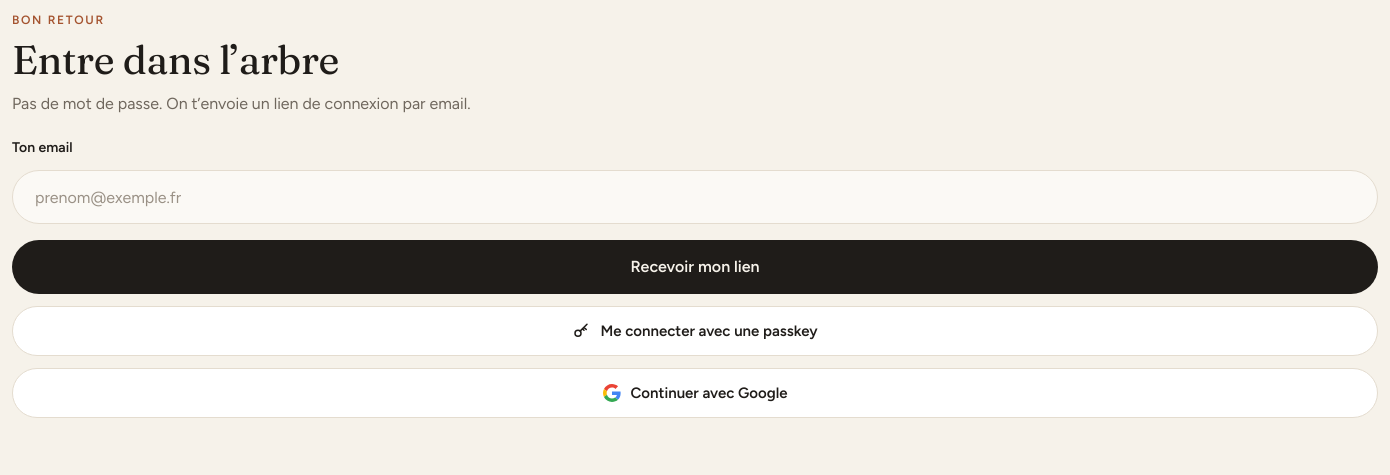
LoginForm › dit qu’il faut réessayer si le départ vers Google échoue
The width and height of the screenshot is (1390, 475).
What coordinates should you click on to do the following:
click the button "Continuer avec Google"
I would click on:
 (695, 393)
Its box is [12,368,1378,418].
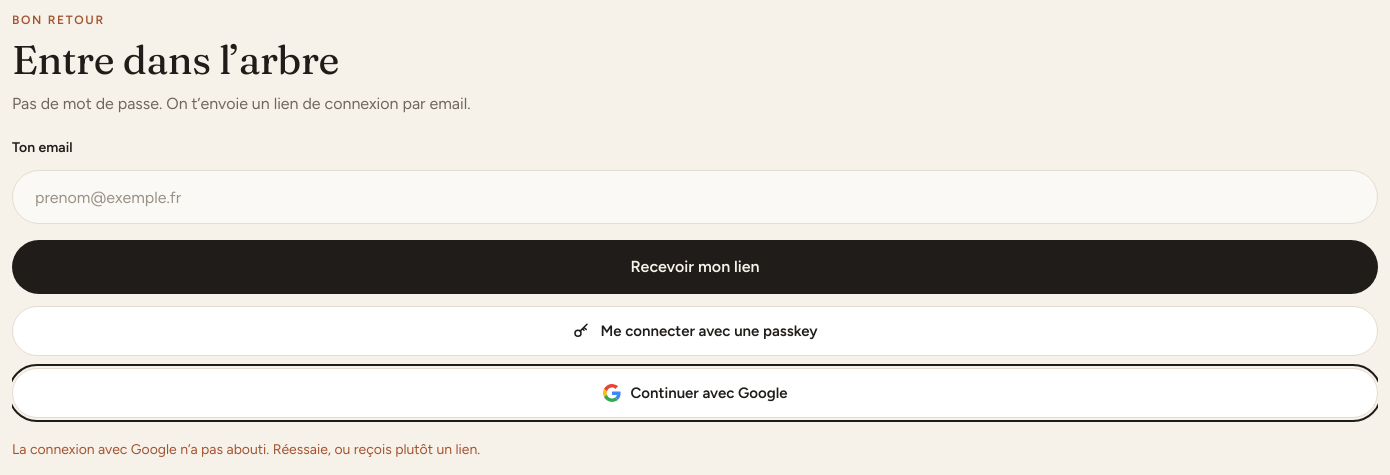
expect the message shows "La connexion avec Google n’a pas abouti": met, box [12,441,480,458]
